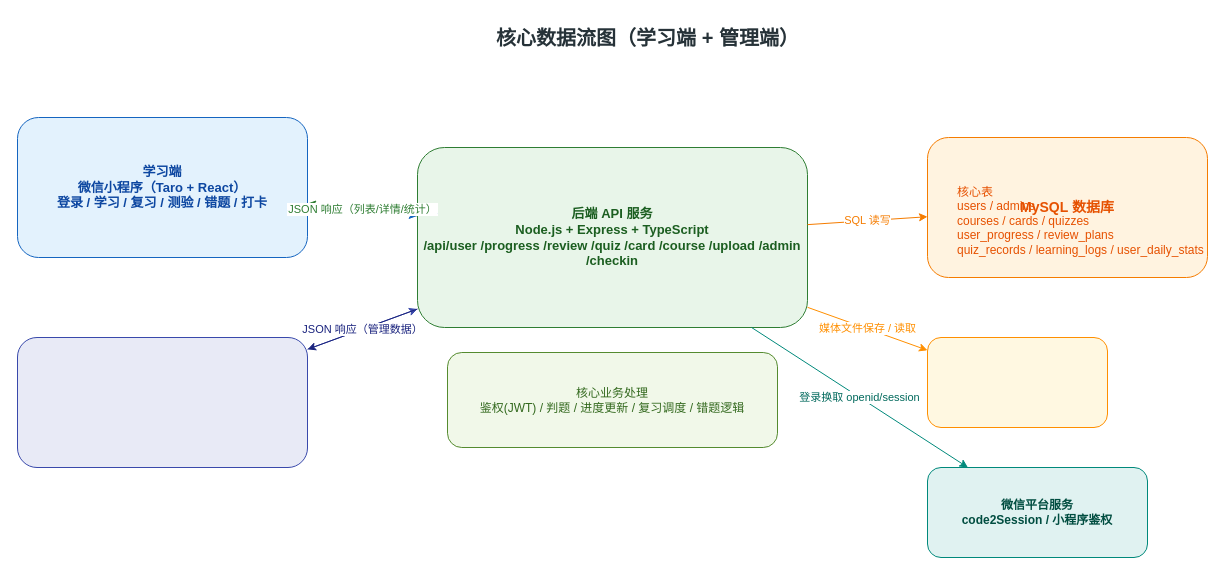
This 1225x575 diagram has some shape labels left out. Here are the shapes that lost their labels. From the top down, the box of each, then its label:
(16, 336, 308, 468): 管理端 Web（React + Ant Design） 课程 / 卡片 / 题目 / 上传 / 统计
(926, 336, 1108, 428): 文件存储 /uploads/images /uploads/audio/tts
